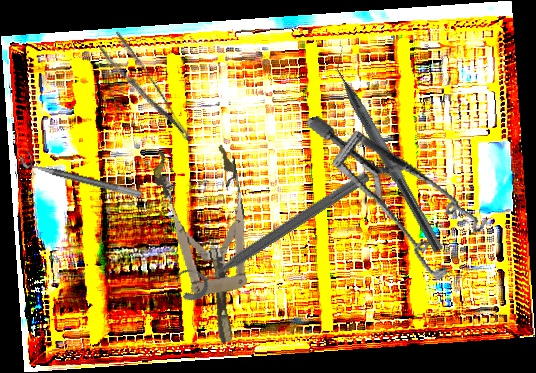Chopper: (320, 43, 458, 254)
Dressing Forceps: (96, 29, 195, 156)
Fixation Ring: (168, 155, 375, 307), (17, 147, 146, 200)
Speculum: (305, 78, 500, 304), (150, 138, 266, 350)
